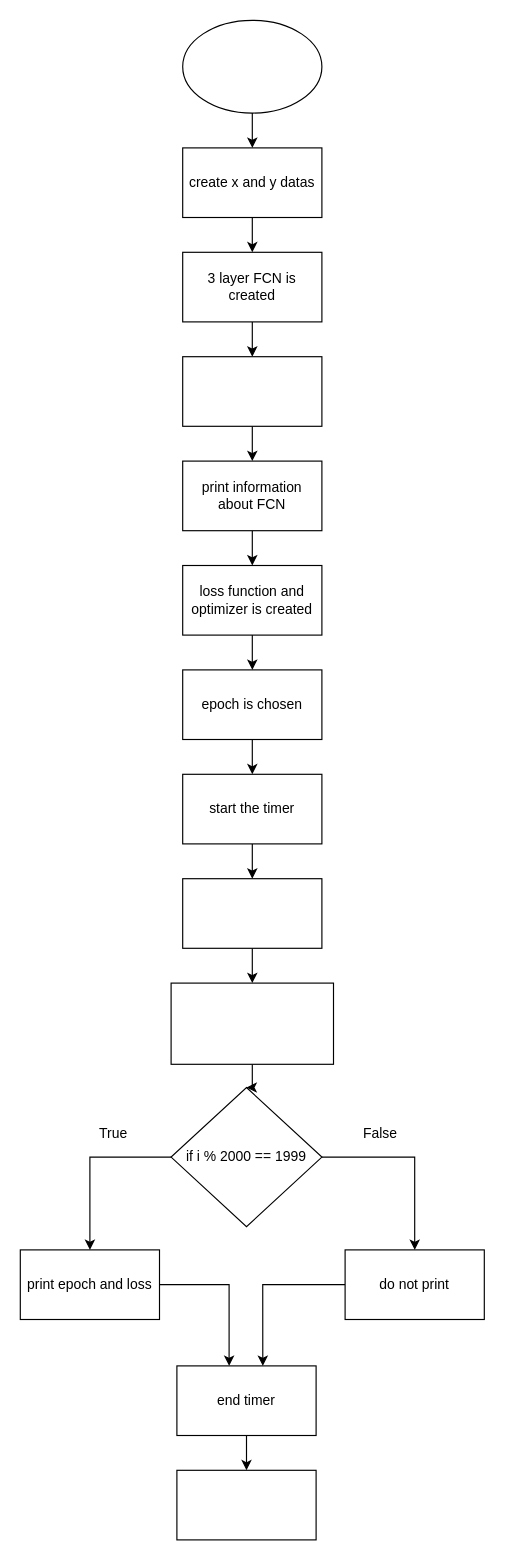
This 505x1560 diagram has some shape labels left out. The centre of each missing label's shape, as x and y in pixels:
"calculate and print elapsed time" goes at pixel 246 1504.
"for i in range(epochs):" goes at pixel 252 913.
"import related modules" goes at pixel 252 66.
"net = 3 layer FCN" goes at pixel 252 391.
"prediction, loss function,backpropagation" goes at pixel 252 1023.
